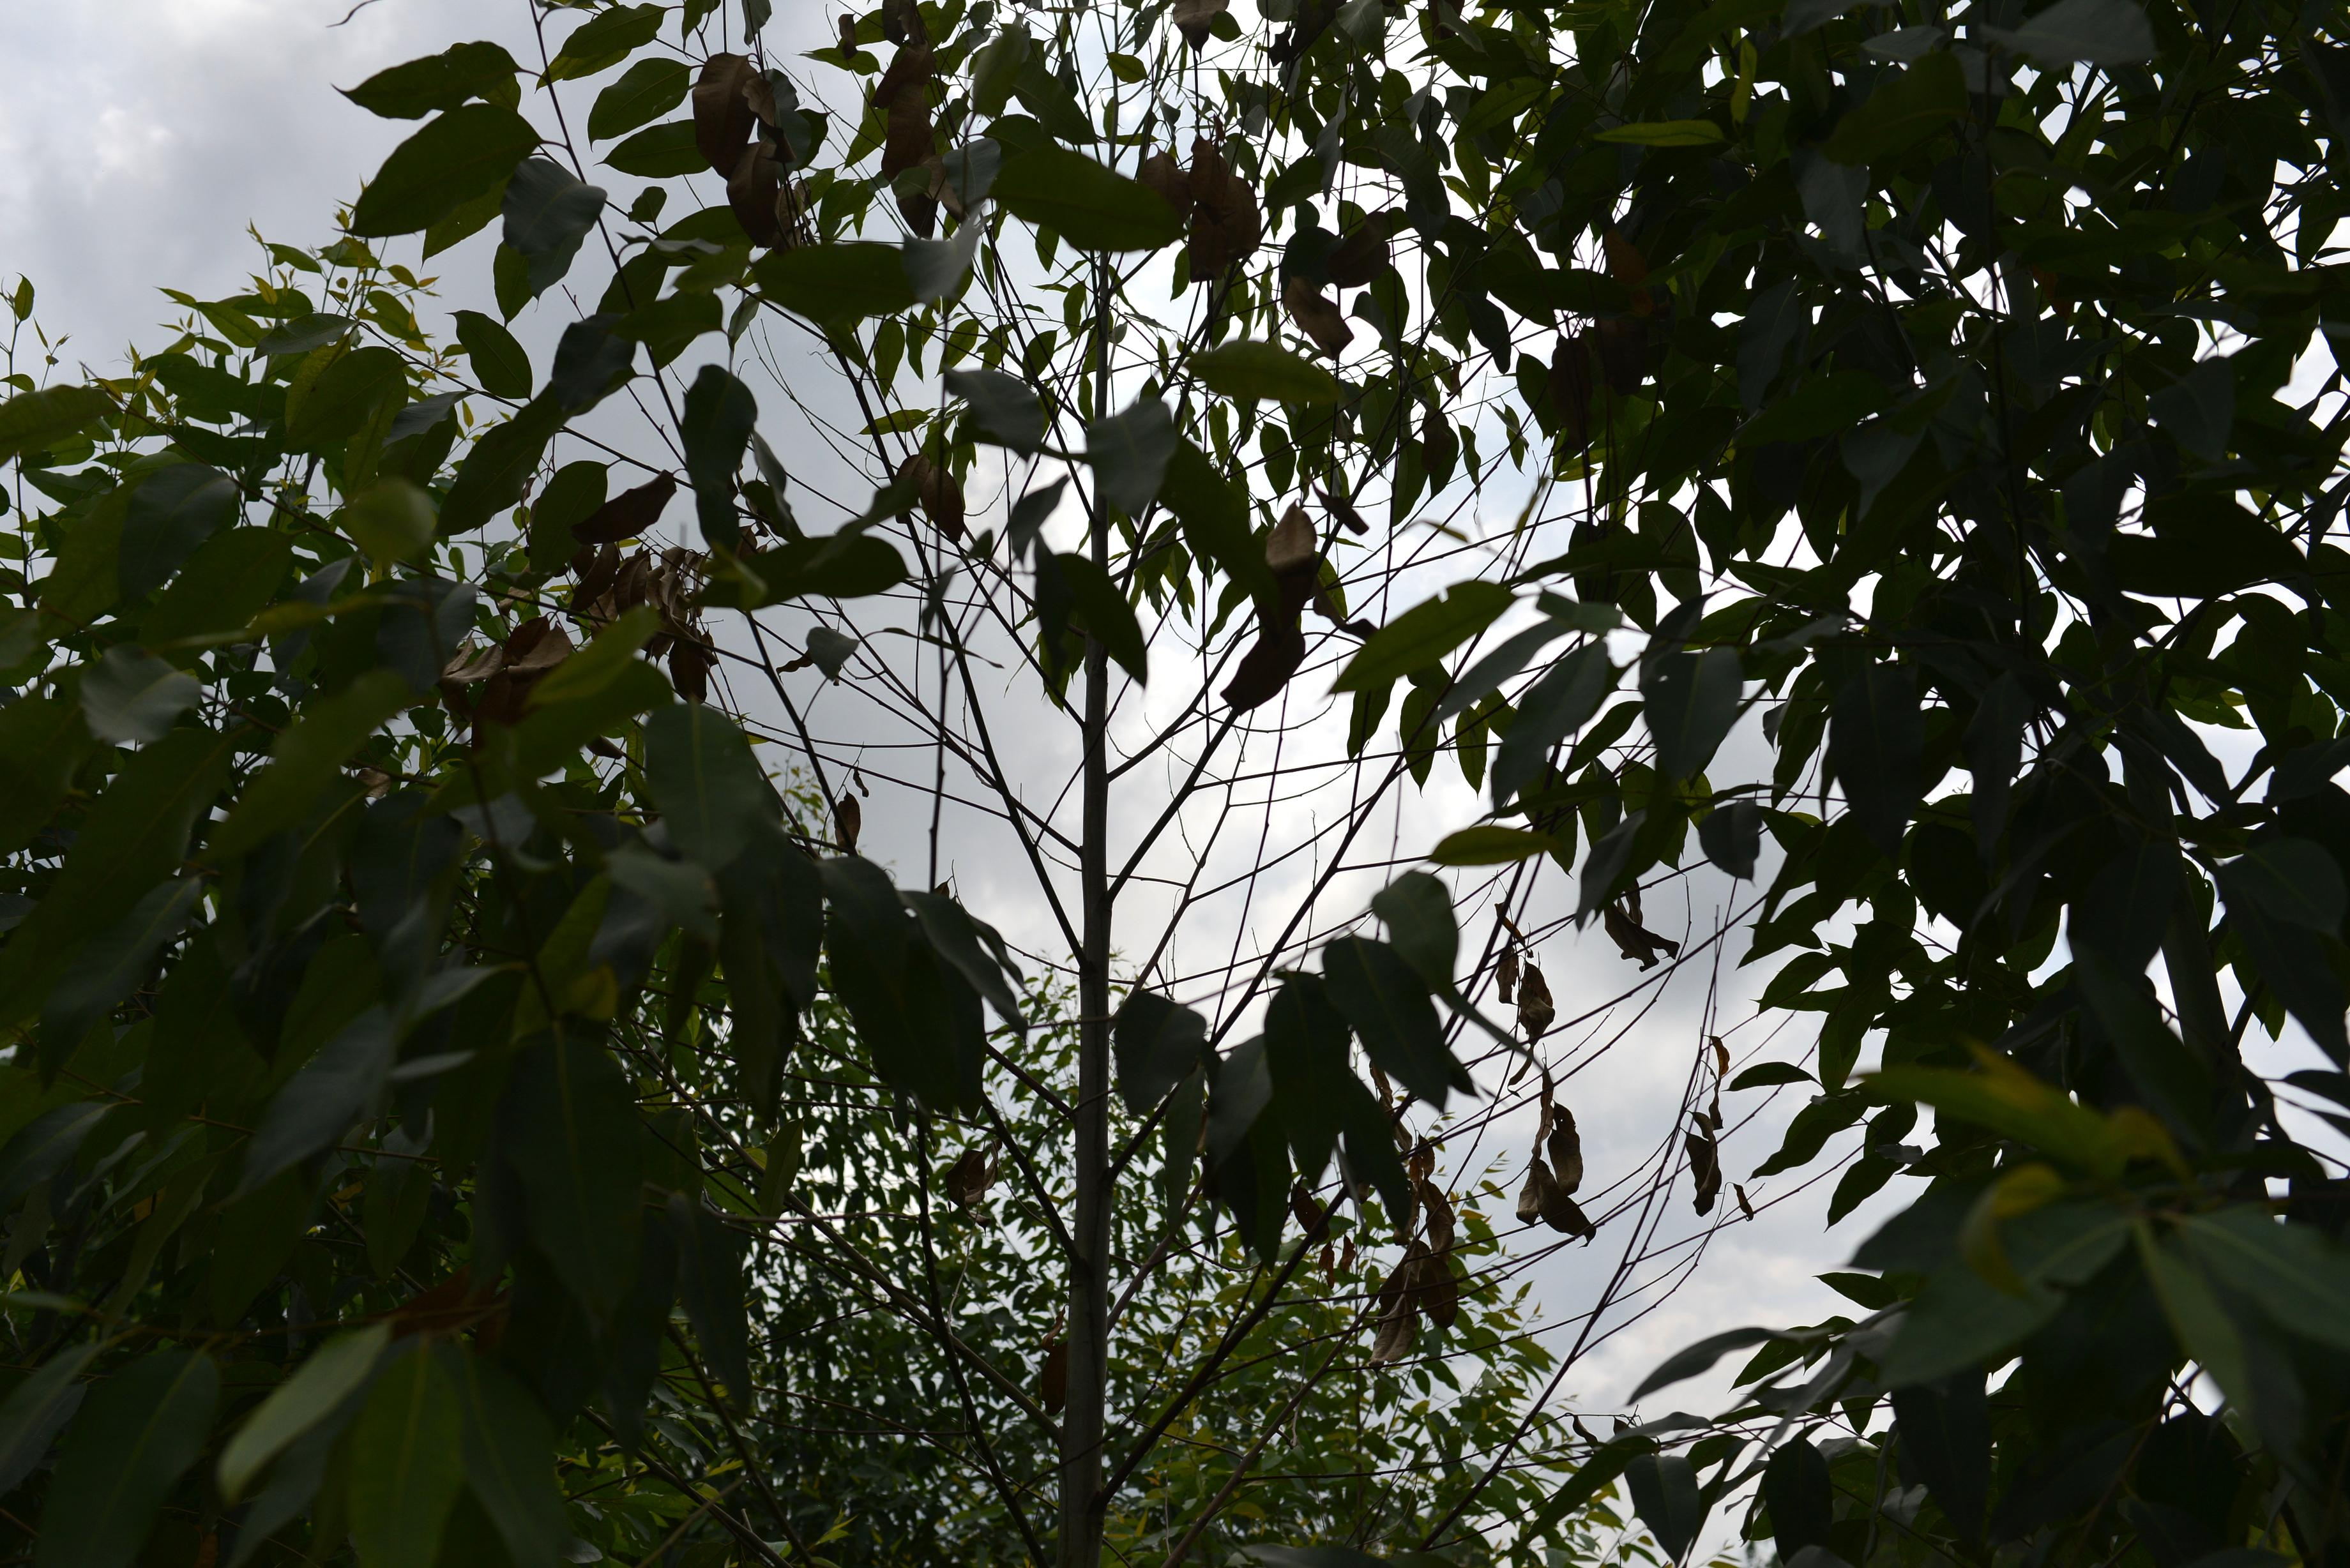Phalopeltis: (416, 560, 591, 724), (684, 42, 817, 250), (1169, 115, 1277, 310), (845, 0, 964, 154), (1251, 486, 1351, 595), (609, 534, 700, 605)
